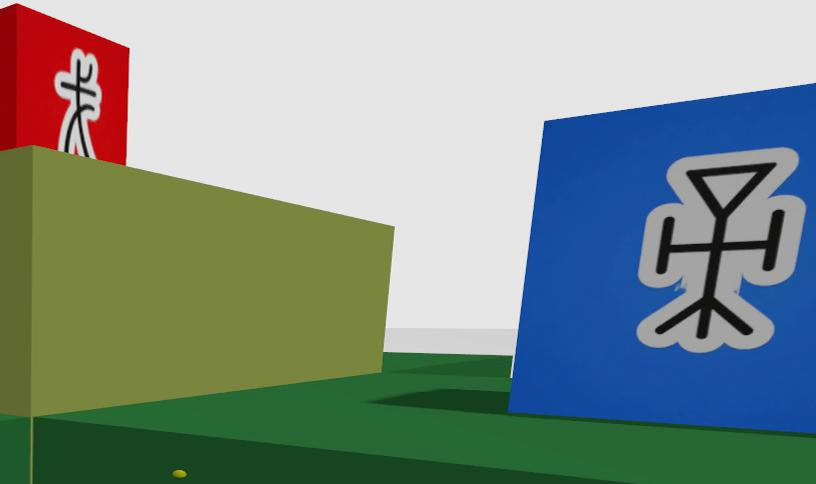KFS_FAKE: (0, 4, 129, 163), (53, 49, 101, 158)
KFS_REAL: (509, 84, 815, 432), (637, 148, 804, 352)
